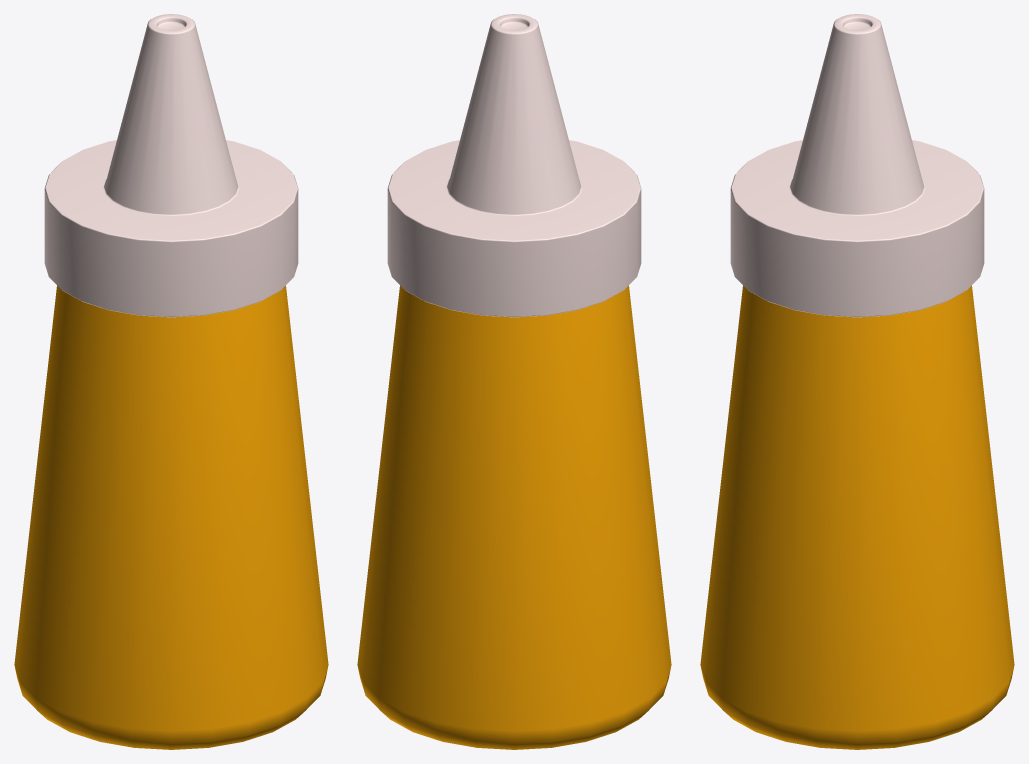
Rendered from Store_12_Mustard_1.glb.
The picture shows the model from 3 angles, left to right: view 1: azimuth 30°, elevation 25°; view 2: azimuth 150°, elevation 25°; view 3: azimuth 270°, elevation 25°; orthographic projection.
Visible parts, largest first — view 1: Store_12_Mustard_1; view 2: Store_12_Mustard_1; view 3: Store_12_Mustard_1.
Boxes of the visible parts, box(x1,y1,x2,y2) form: Store_12_Mustard_1: box(14, 14, 328, 749); Store_12_Mustard_1: box(357, 14, 671, 749); Store_12_Mustard_1: box(700, 14, 1014, 749).
Bounding box in the file's own units: 0.2221 × 0.5226 × 0.2221.
Materials: 1 (1 with a texture image).
